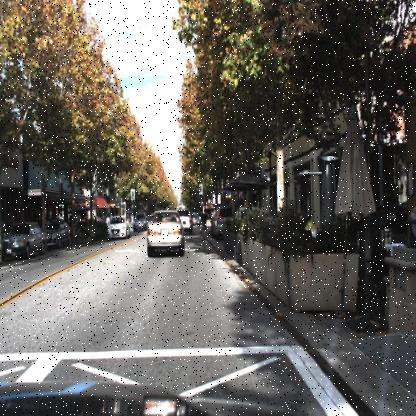car: (145, 208, 184, 257), (1, 221, 46, 260), (3, 222, 46, 262), (43, 218, 74, 248), (210, 202, 233, 239), (46, 219, 72, 251), (106, 213, 131, 240), (178, 206, 193, 236), (131, 210, 148, 235)
trafficLight-Green: (198, 182, 204, 200)
